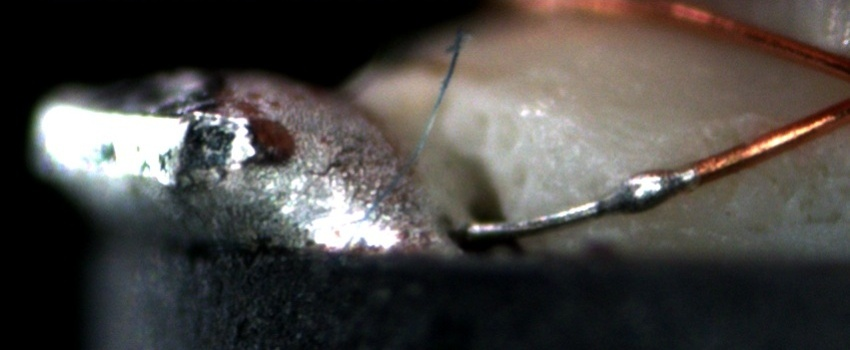CL: (836, 54, 850, 115)
DL: (543, 84, 849, 142)
TB: (599, 163, 692, 221)
TS: (465, 166, 694, 239)
TTCW: (456, 145, 748, 243)
